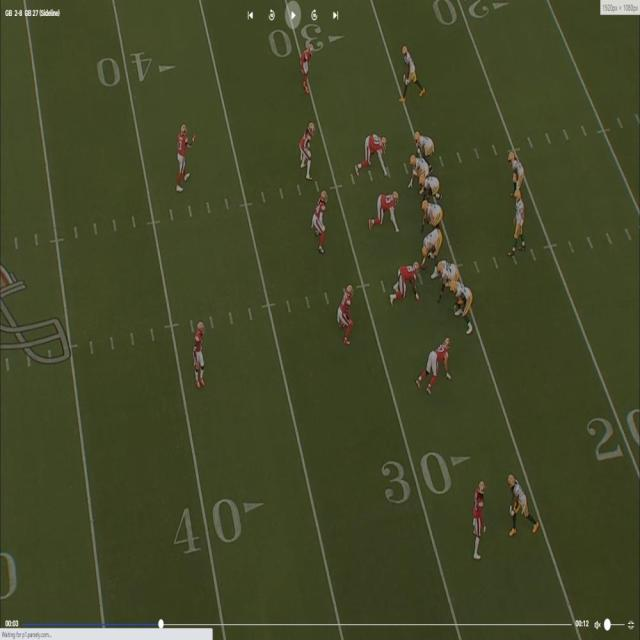center: (418, 228, 443, 272)
db: (472, 481, 485, 564), (195, 323, 206, 389), (180, 120, 190, 190), (302, 42, 316, 90)
lb: (341, 284, 355, 344), (298, 124, 314, 175), (317, 192, 329, 252)
qb: (509, 189, 525, 255)
skill: (507, 472, 532, 526), (406, 156, 430, 192), (402, 44, 420, 90), (509, 148, 525, 187), (415, 133, 434, 158)
